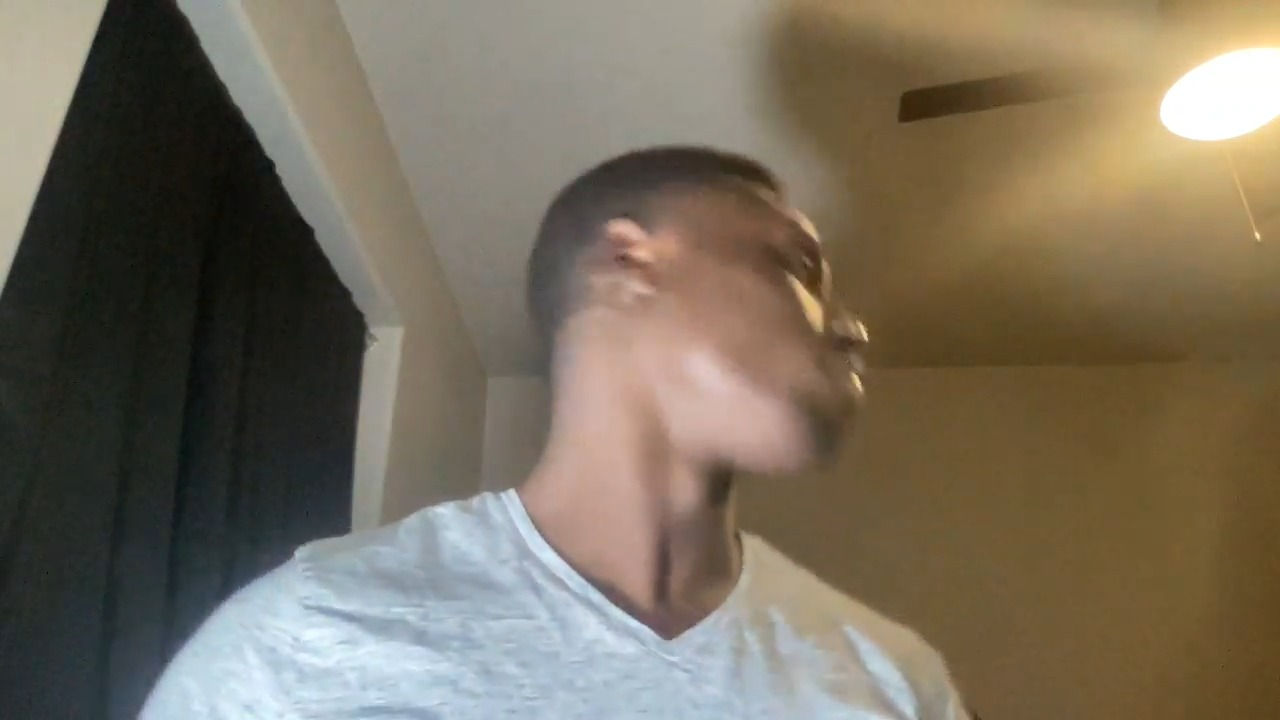face: (528, 147, 868, 474)
